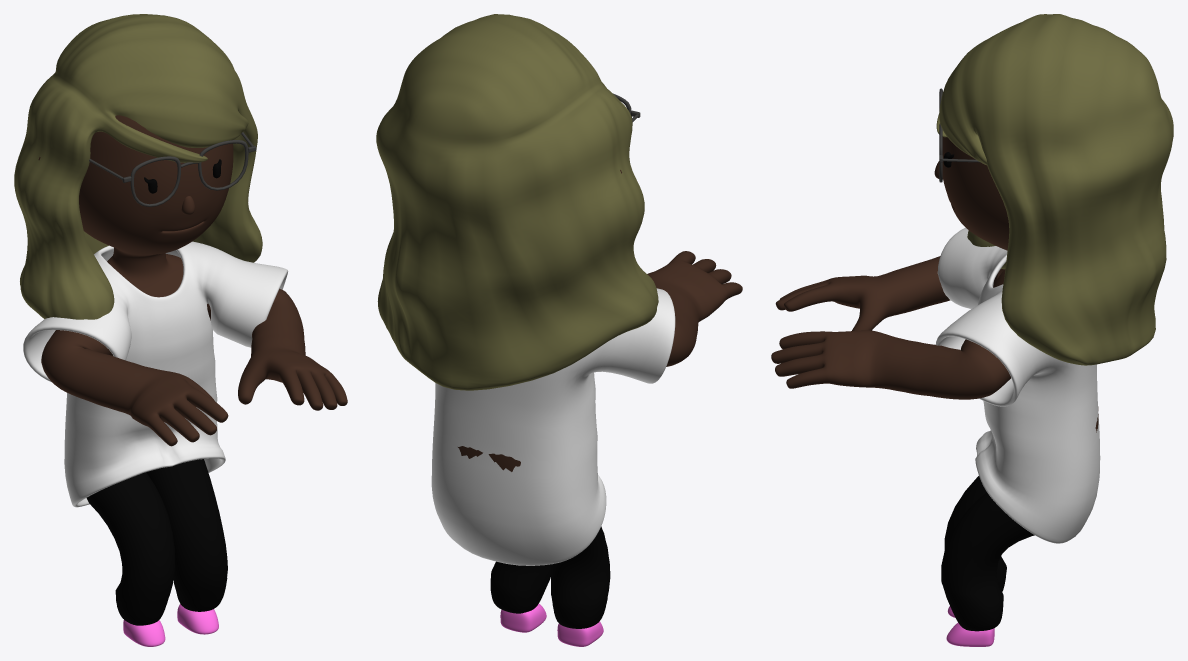
The model's file is regisseur.gltf.
3 views of the same model, side by side, from view 1: azimuth 30°, elevation 25°; view 2: azimuth 150°, elevation 25°; view 3: azimuth 270°, elevation 25° (orthographic). The views are drawn at different scales.
Parts seen in each view (by area): view 1: Hair_7, T-shirt, body, head, Cube.033, Cube.032, eyeglass_2, Cube.035, Cube.034; view 2: Hair_7, T-shirt, body, Cube.033, Cube.032, Cube.035, Cube.034; view 3: Hair_7, T-shirt, body, Cube.032, head, Cube.033, Cube.035.
Part boxes in pixels (x1,y1,x2,y2): Hair_7: [14, 14, 262, 319]; T-shirt: [23, 241, 288, 507]; body: [41, 288, 347, 446]; head: [38, 115, 233, 297]; Cube.033: [86, 472, 174, 625]; Cube.032: [146, 459, 227, 611]; eyeglass_2: [89, 132, 256, 206]; Cube.035: [177, 604, 218, 634]; Cube.034: [123, 620, 165, 646]; Hair_7: [376, 14, 658, 390]; T-shirt: [431, 288, 675, 565]; body: [458, 251, 742, 471]; Cube.033: [550, 526, 610, 628]; Cube.032: [490, 561, 550, 613]; Cube.035: [500, 603, 546, 632]; Cube.034: [557, 621, 603, 646]; Hair_7: [936, 14, 1173, 365]; T-shirt: [935, 227, 1100, 543]; body: [771, 256, 1098, 432]; Cube.032: [941, 492, 1034, 631]; head: [942, 137, 1009, 287]; Cube.033: [944, 476, 1006, 591]; Cube.035: [946, 622, 994, 646].
Bounding box in the file's own units: 4.23 × 9.01 × 5.42.
